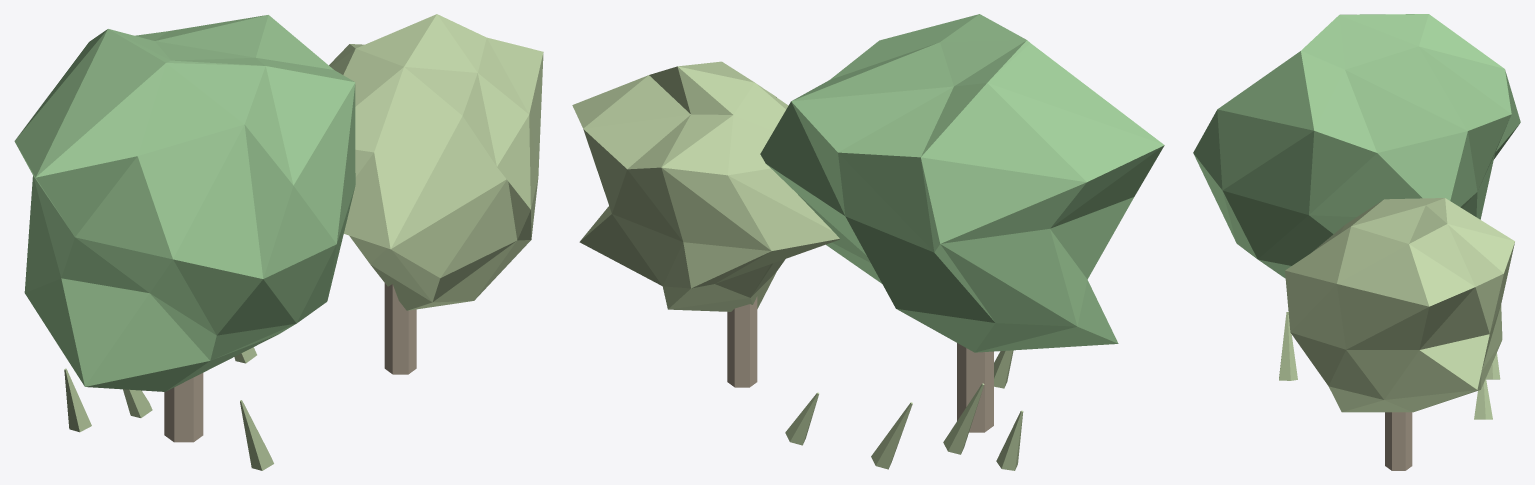
The model's file is ASTX_VEG_SCRUB_A.glb.
3 renders of one model, left to right at view 1: azimuth 30°, elevation 25°; view 2: azimuth 150°, elevation 25°; view 3: azimuth 270°, elevation 25°, orthographic. The views are drawn at different scales.
Visible parts, largest first — view 1: ASTX_VEG_SCRUB_A_lobe0, ASTX_VEG_SCRUB_A_lobe1, ASTX_VEG_SCRUB_A_stem1, ASTX_VEG_SCRUB_A_stem0, ASTX_VEG_SCRUB_A_spike03, ASTX_VEG_SCRUB_A_spike02, ASTX_VEG_SCRUB_A_spike01; view 2: ASTX_VEG_SCRUB_A_lobe0, ASTX_VEG_SCRUB_A_lobe1, ASTX_VEG_SCRUB_A_stem0, ASTX_VEG_SCRUB_A_stem1, ASTX_VEG_SCRUB_A_spike01, ASTX_VEG_SCRUB_A_spike00, ASTX_VEG_SCRUB_A_spike02, ASTX_VEG_SCRUB_A_spike04; view 3: ASTX_VEG_SCRUB_A_lobe0, ASTX_VEG_SCRUB_A_lobe1, ASTX_VEG_SCRUB_A_stem1, ASTX_VEG_SCRUB_A_spike03, ASTX_VEG_SCRUB_A_spike04.
Boxes of the visible parts, x1,y1,x2,y2 form: ASTX_VEG_SCRUB_A_lobe0: [14, 15, 355, 391]; ASTX_VEG_SCRUB_A_lobe1: [329, 14, 543, 310]; ASTX_VEG_SCRUB_A_stem1: [384, 283, 416, 374]; ASTX_VEG_SCRUB_A_stem0: [164, 373, 203, 442]; ASTX_VEG_SCRUB_A_spike03: [240, 400, 273, 470]; ASTX_VEG_SCRUB_A_spike02: [64, 368, 91, 432]; ASTX_VEG_SCRUB_A_spike01: [123, 389, 152, 417]; ASTX_VEG_SCRUB_A_lobe0: [760, 14, 1164, 352]; ASTX_VEG_SCRUB_A_lobe1: [572, 61, 839, 311]; ASTX_VEG_SCRUB_A_stem0: [957, 343, 993, 432]; ASTX_VEG_SCRUB_A_stem1: [727, 296, 757, 387]; ASTX_VEG_SCRUB_A_spike01: [943, 383, 984, 454]; ASTX_VEG_SCRUB_A_spike00: [871, 402, 912, 469]; ASTX_VEG_SCRUB_A_spike02: [996, 410, 1023, 470]; ASTX_VEG_SCRUB_A_spike04: [785, 392, 819, 445]; ASTX_VEG_SCRUB_A_lobe0: [1193, 14, 1520, 278]; ASTX_VEG_SCRUB_A_lobe1: [1285, 198, 1514, 412]; ASTX_VEG_SCRUB_A_stem1: [1385, 412, 1412, 470]; ASTX_VEG_SCRUB_A_spike03: [1279, 312, 1297, 380]; ASTX_VEG_SCRUB_A_spike04: [1474, 378, 1492, 419].
Size of the model in its own units: 1.84 by 1.25 by 1.08.
